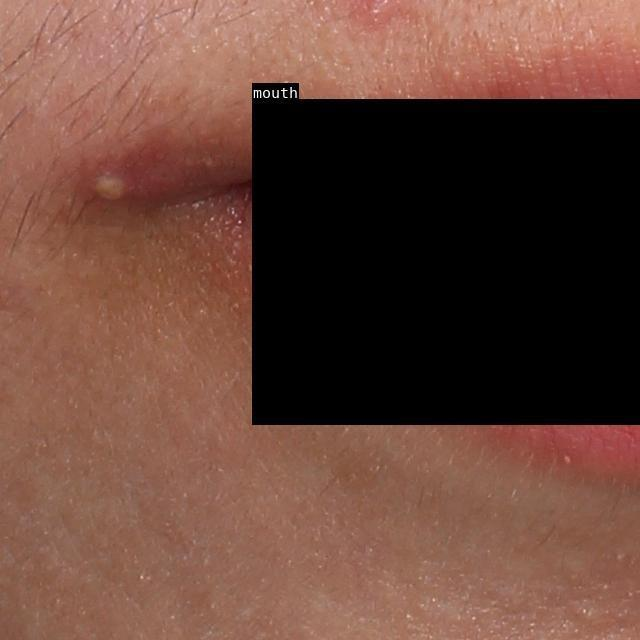pustule: (89, 162, 153, 215)
